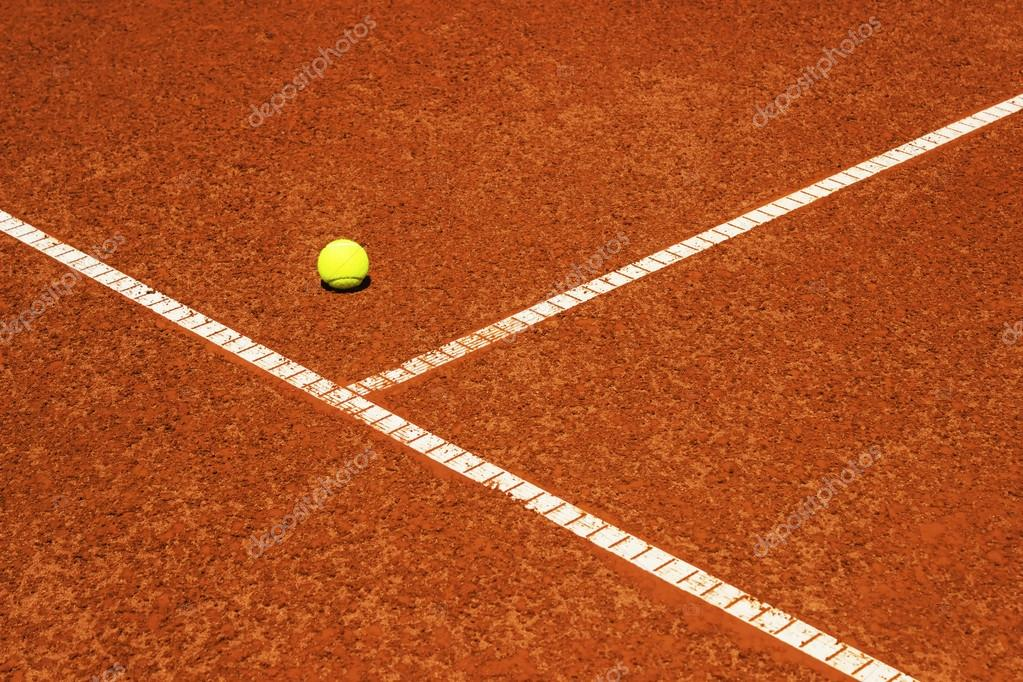tennis_ball: (315, 238, 369, 293)
